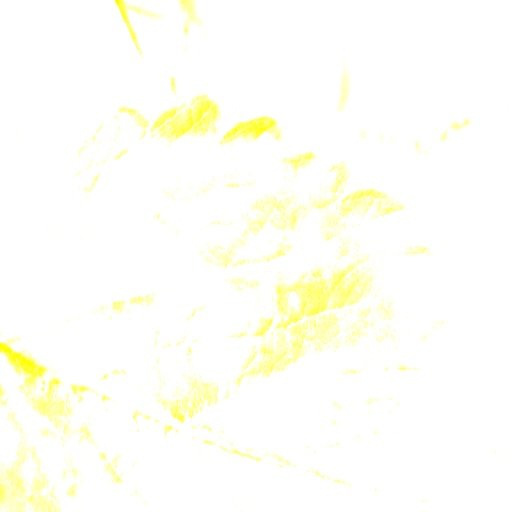Leaf Spot: (0, 90, 511, 511)
